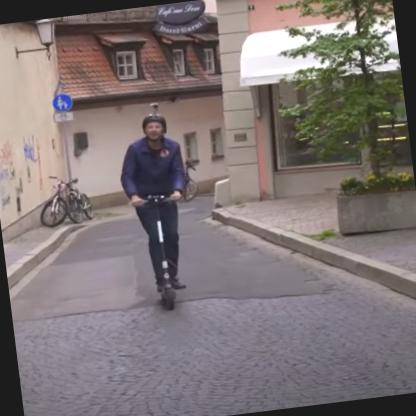helmet: (138, 109, 169, 146)
human: (121, 113, 189, 295)
kickboard: (157, 286, 181, 313)
